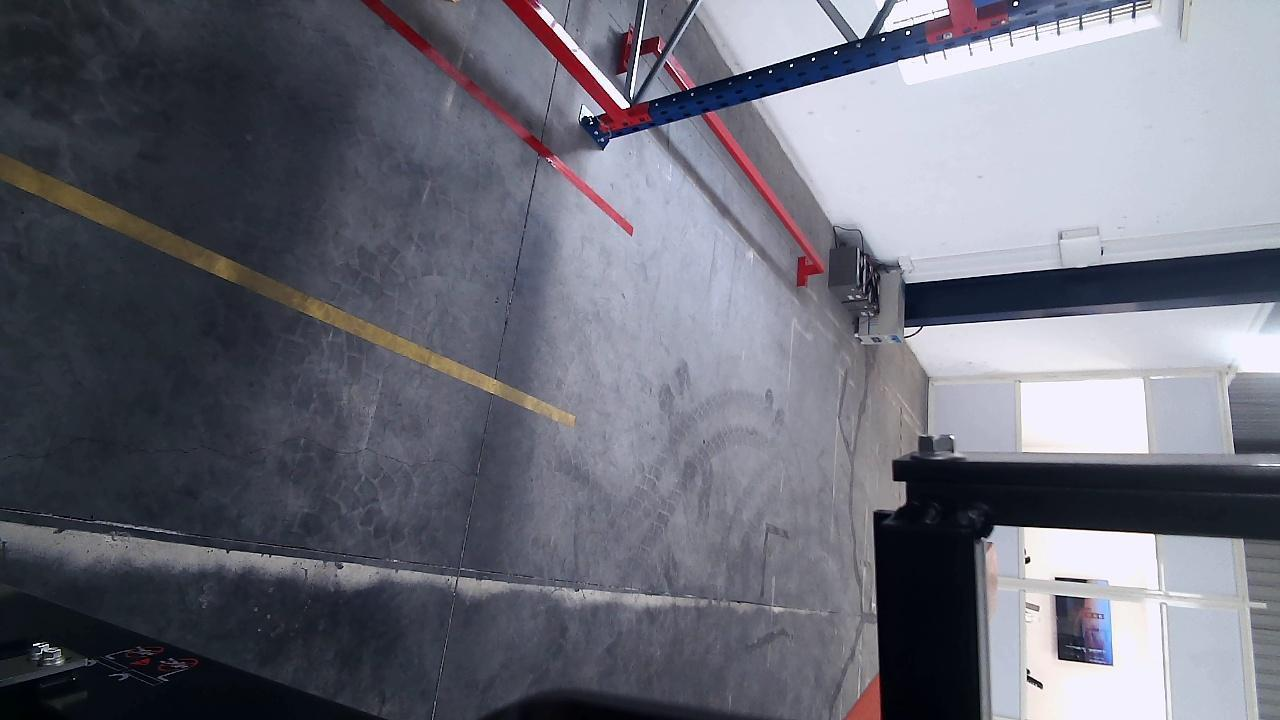red_line: (365, 0, 635, 235)
yellow_line: (0, 145, 576, 429)
